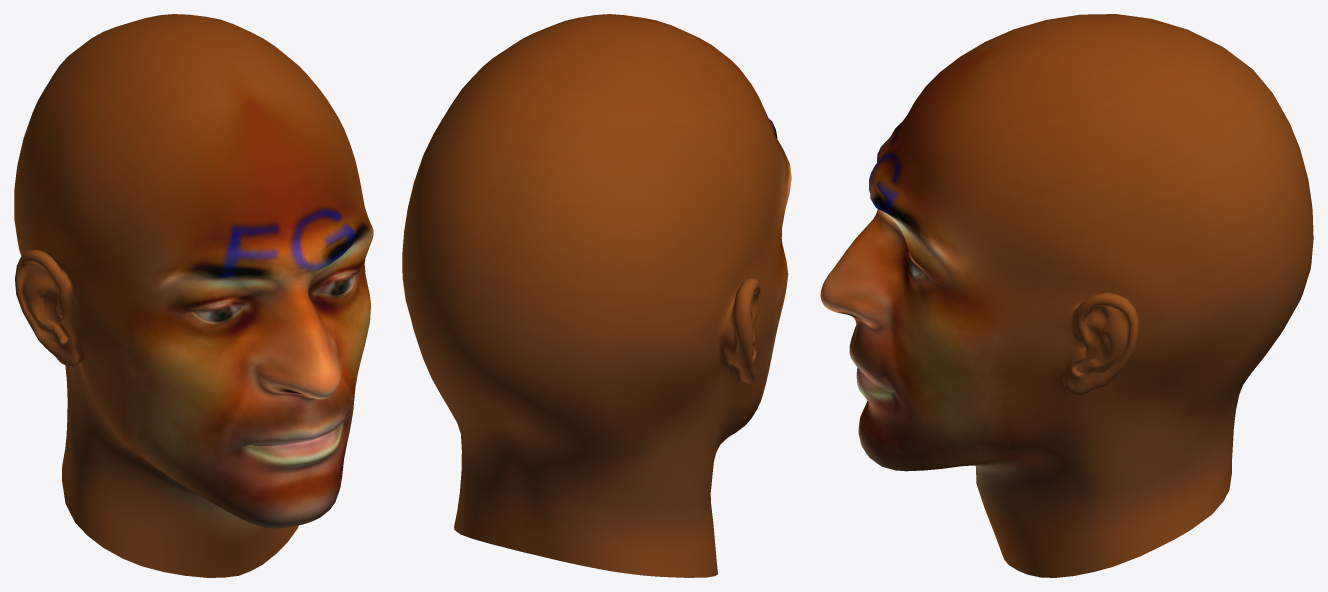
The model's file is random_anyrace_anysex_07.obj.
The picture shows the model from 3 angles, left to right: view 1: azimuth 30°, elevation 25°; view 2: azimuth 150°, elevation 25°; view 3: azimuth 270°, elevation 25°; orthographic projection. The views are drawn at different scales.
Visible parts, largest first — view 1: HeadHires; view 2: HeadHires; view 3: HeadHires.
Boxes of the visible parts, left/top/right/bottom form: HeadHires: left=14, top=14, right=373, bottom=577; HeadHires: left=402, top=14, right=791, bottom=577; HeadHires: left=820, top=14, right=1313, bottom=577.
Bounding box in the file's own units: 186 × 283 × 241.
1 material, 1 textured.
